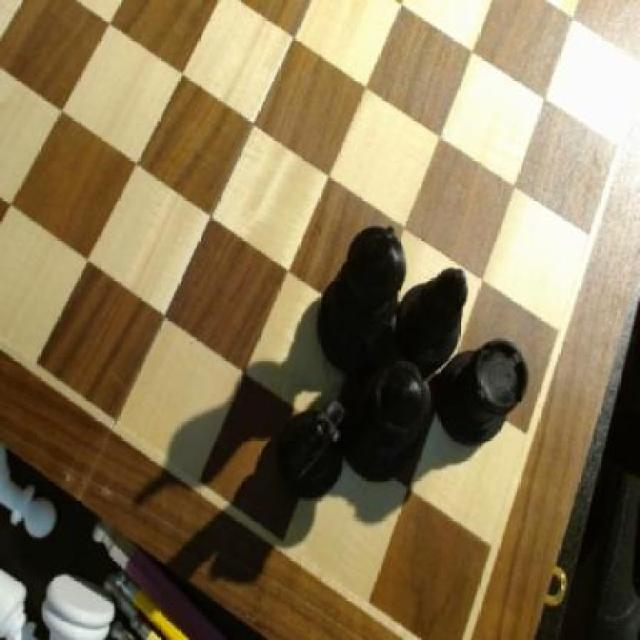bishop: (402, 266, 472, 369)
black-bishop: (315, 212, 407, 378)
black-king: (280, 388, 349, 504)
black-pawn: (349, 359, 433, 486)
black-queen: (437, 337, 532, 451)
